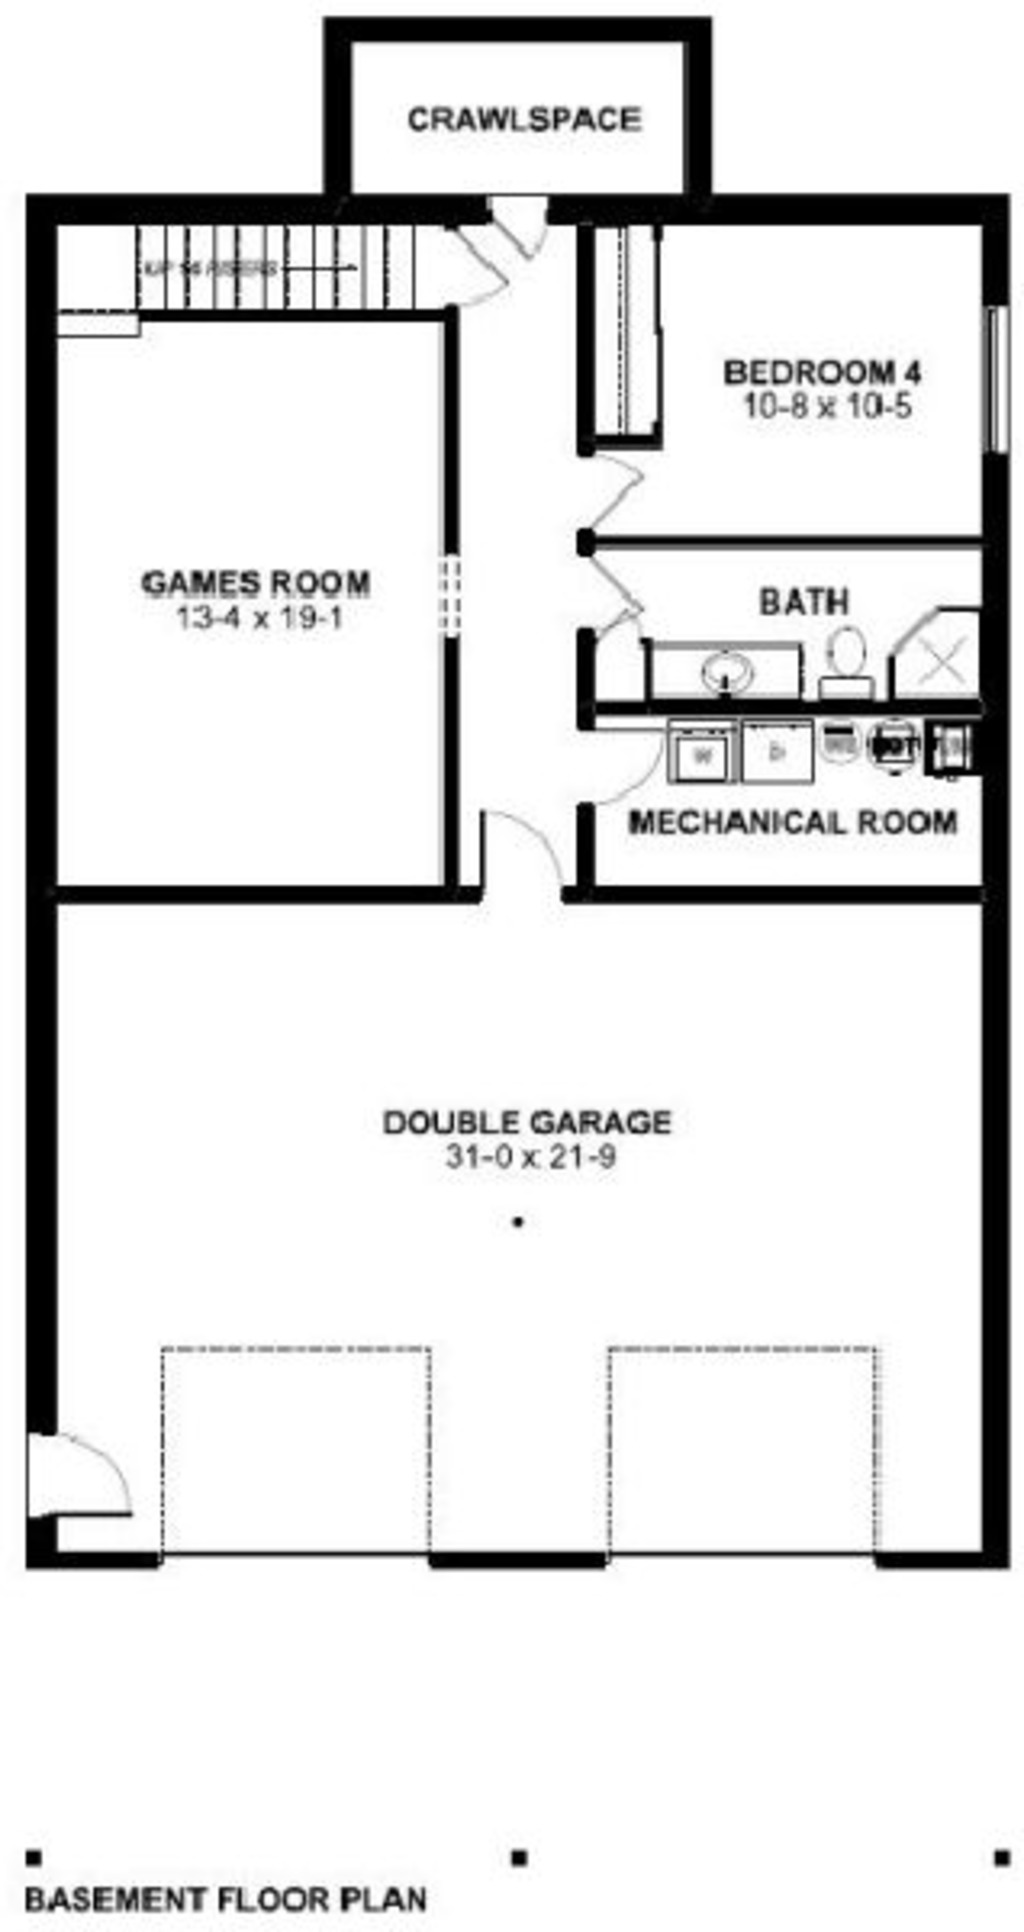door: (12, 1430, 136, 1521), (472, 800, 578, 903), (428, 216, 510, 316), (584, 730, 675, 808), (578, 442, 652, 533), (493, 183, 555, 259), (578, 555, 646, 621)
large_sink: (816, 624, 874, 707)
small_sink: (649, 641, 807, 707)
stairs: (125, 224, 424, 325)
window: (978, 316, 1012, 448)
